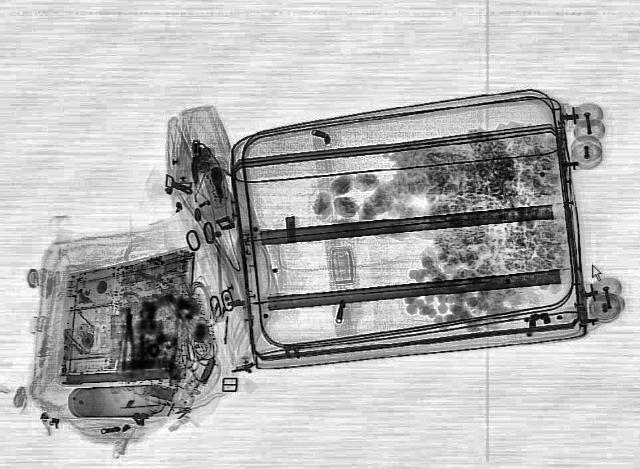Pliers: (120, 312, 136, 370)
